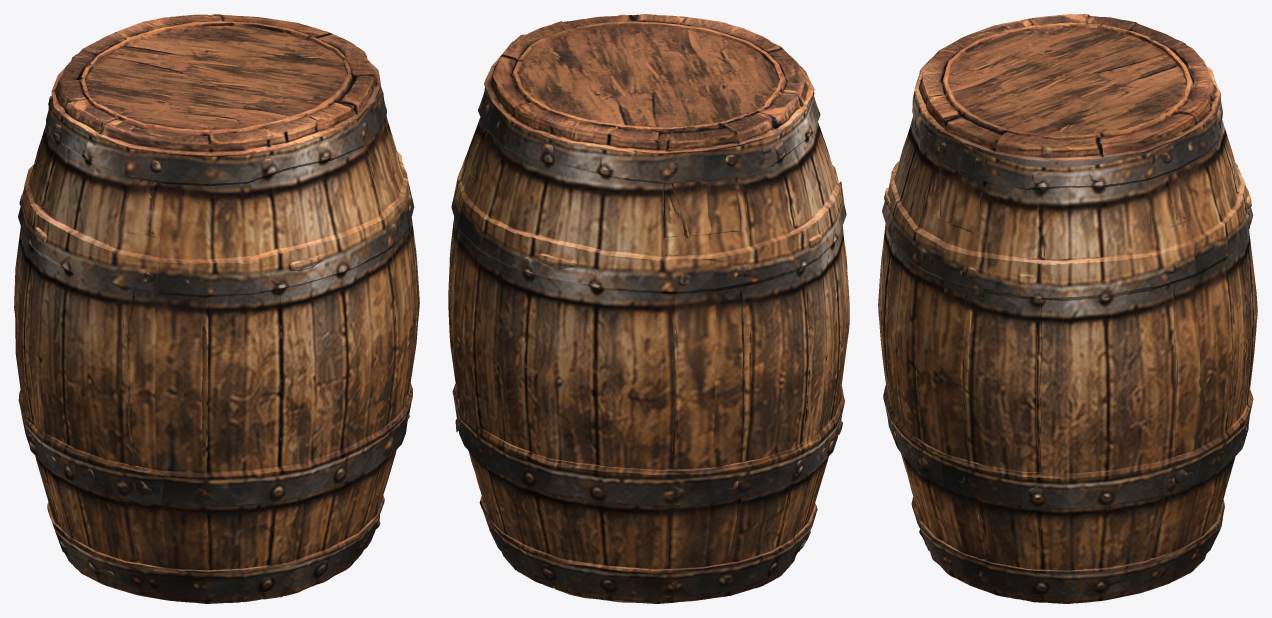
File: scene-0-objects-3-glbData-6851f58c6240.glb
3 views of the same model, side by side, from view 1: azimuth 30°, elevation 25°; view 2: azimuth 150°, elevation 25°; view 3: azimuth 270°, elevation 25° (orthographic).
Visible parts, largest first — view 1: Wooden_Barrel_Optimized; view 2: Wooden_Barrel_Optimized; view 3: Wooden_Barrel_Optimized.
Part boxes in pixels (bbox=[...]): Wooden_Barrel_Optimized: bbox=[14, 14, 419, 603]; Wooden_Barrel_Optimized: bbox=[448, 14, 849, 603]; Wooden_Barrel_Optimized: bbox=[878, 14, 1257, 603].
Size of the model in its own units: 0.8 by 1.02 by 0.75.
Materials: 1 (1 with a texture image).
